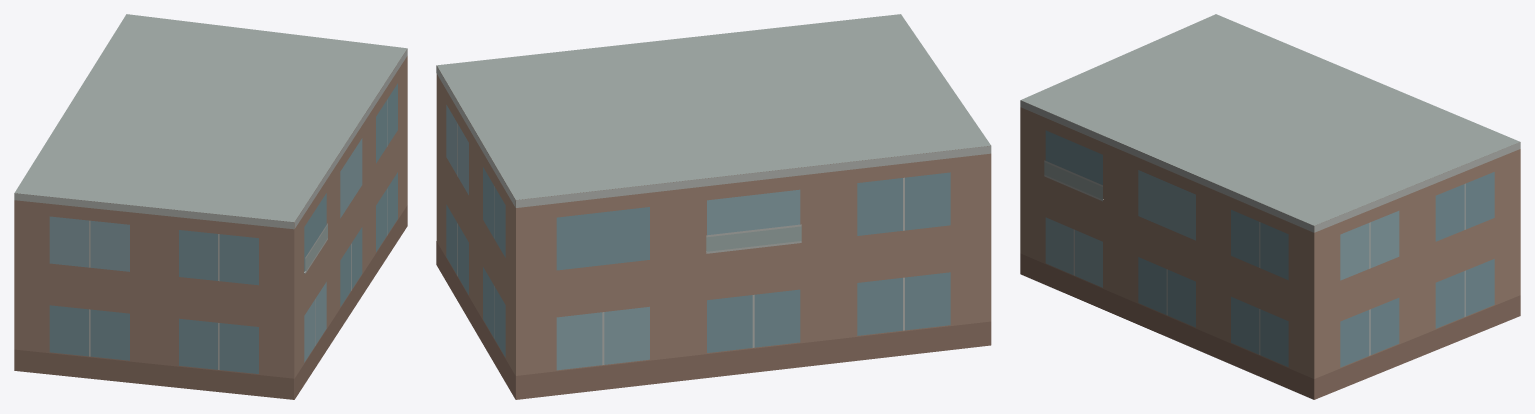
File: survey-upis-32770204.glb
3 renders of one model, left to right at view 1: azimuth 30°, elevation 25°; view 2: azimuth 150°, elevation 25°; view 3: azimuth 270°, elevation 25°, orthographic. The views are drawn at different scales.
Visible parts, largest first — view 1: survey-upis-32770204.tmp; view 2: survey-upis-32770204.tmp; view 3: survey-upis-32770204.tmp.
Boxes of the visible parts, bbox=[...] form: survey-upis-32770204.tmp: bbox=[14, 14, 407, 399]; survey-upis-32770204.tmp: bbox=[436, 14, 991, 399]; survey-upis-32770204.tmp: bbox=[1020, 14, 1520, 399].
Size of the model in its own units: 15.94 by 6.1 by 15.9.
